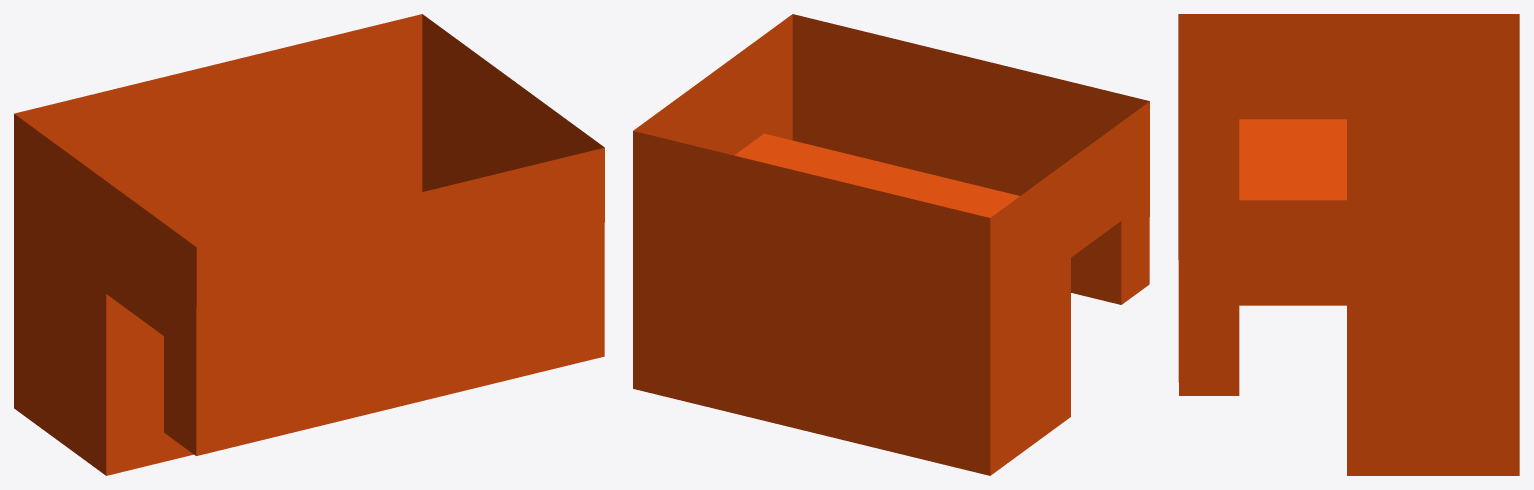
File: Hair Male For Hat 01.FBX
3 views of the same model, side by side, from view 1: azimuth 30°, elevation 25°; view 2: azimuth 150°, elevation 25°; view 3: azimuth 270°, elevation 25° (orthographic). The views are drawn at different scales.
Parts seen in each view (by area): view 1: Hair Male For Hat 01; view 2: Hair Male For Hat 01; view 3: Hair Male For Hat 01.
Part boxes in pixels (x1,y1,x2,y2): Hair Male For Hat 01: [14, 14, 604, 475]; Hair Male For Hat 01: [633, 14, 1149, 475]; Hair Male For Hat 01: [1178, 14, 1519, 475].
Size of the model in its own units: 52.09 by 35.94 by 40.33.
1 material, 1 textured.
